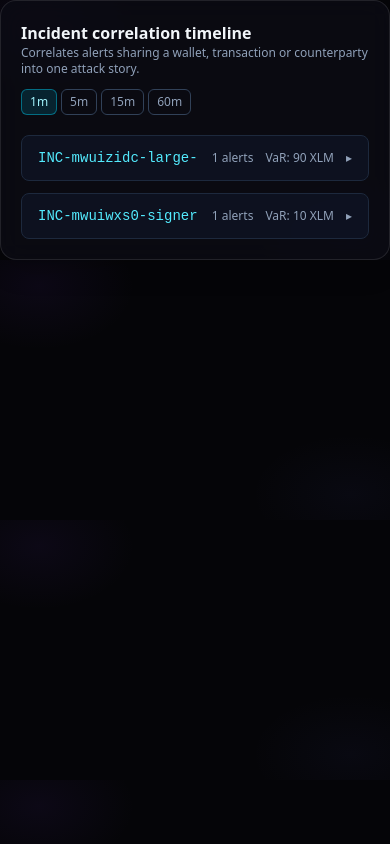
Scenario: IncidentCorrelationTimeline (#1044) › changes the correlation window from the UI
This screenshot has width=390, height=844.
Click the button "5m": {"x": 79, "y": 102} top-left (61, 89), bottom-right (97, 115)
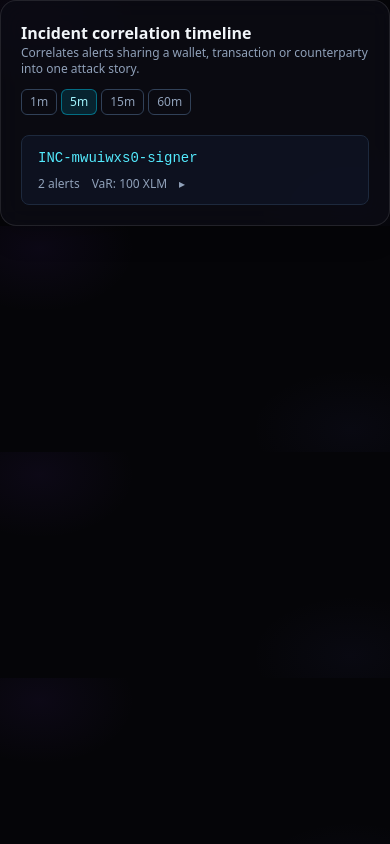
Now the button "5m" is pressed, box top-left (61, 89), bottom-right (97, 115)
